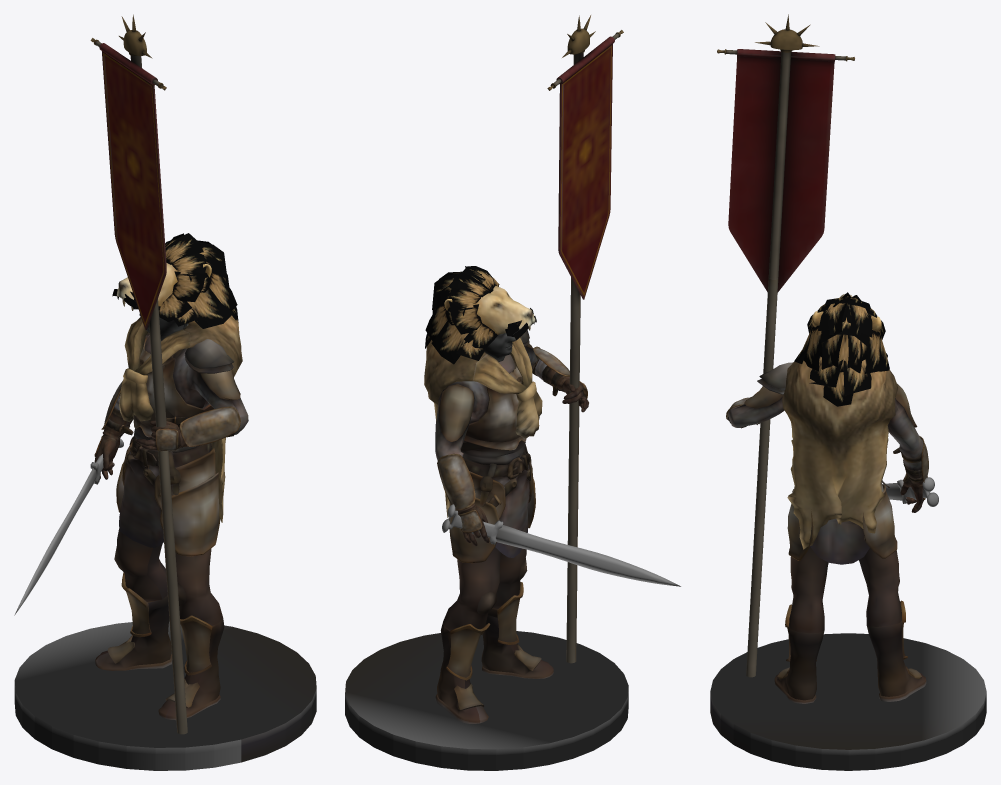
3 views of the same model, side by side, from view 1: azimuth 30°, elevation 25°; view 2: azimuth 150°, elevation 25°; view 3: azimuth 270°, elevation 25° (orthographic). The views are drawn at different scales.
Parts seen in each view (by area): view 1: cla_iberian_weapon_gladius_decorated_iron_blade.smd; view 2: cla_iberian_weapon_gladius_decorated_iron_blade.smd; view 3: cla_iberian_weapon_gladius_decorated_iron_blade.smd.
Part boxes in pixels (x1,y1,x2,y2): cla_iberian_weapon_gladius_decorated_iron_blade.smd: (14,14,316,770); cla_iberian_weapon_gladius_decorated_iron_blade.smd: (345,15,680,770); cla_iberian_weapon_gladius_decorated_iron_blade.smd: (710,14,986,770).
Bounding box in the file's own units: 1.27 × 2.87 × 1.07.
Materials: 1 (1 with a texture image).
